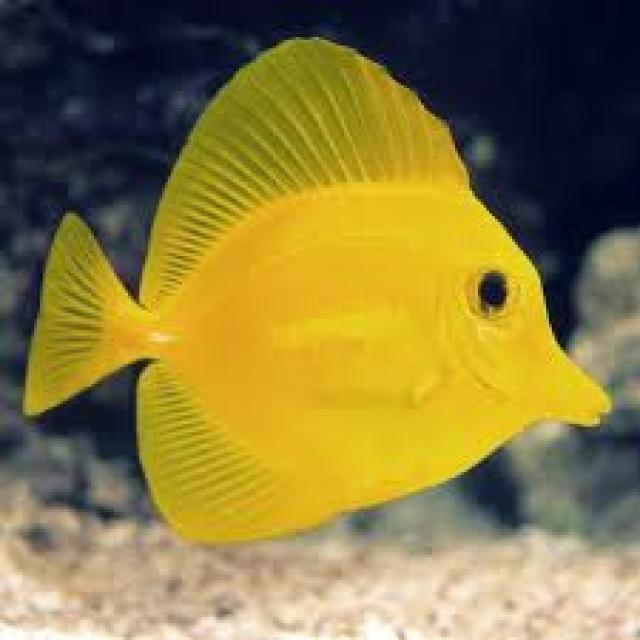TangFish: (17, 32, 607, 547)
